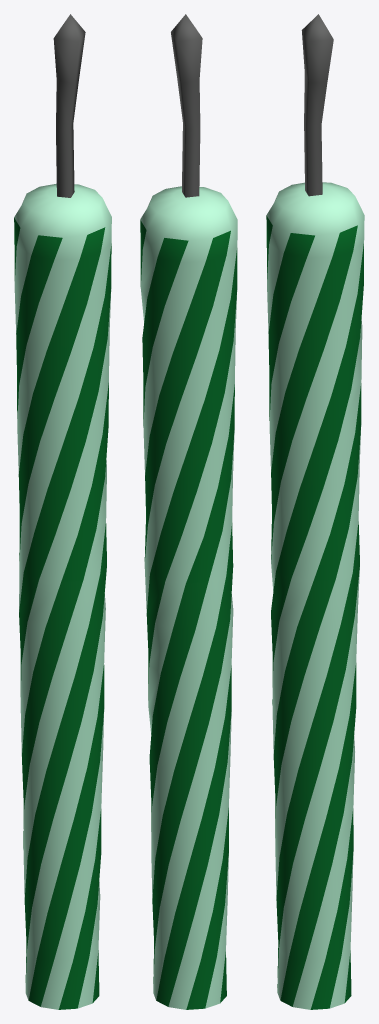
File: birthday_candle_009.glb
3 views of the same model, side by side, from view 1: azimuth 30°, elevation 25°; view 2: azimuth 150°, elevation 25°; view 3: azimuth 330°, elevation 25° (orthographic).
Visible parts, largest first — view 1: birthday_candle_009; view 2: birthday_candle_009; view 3: birthday_candle_009.
Part boxes in pixels (x1,y1,x2,y2): birthday_candle_009: (14, 14, 111, 1009); birthday_candle_009: (140, 14, 237, 1009); birthday_candle_009: (266, 14, 364, 1009).
Size of the model in its own units: 0.9066 by 10.02 by 0.9065.
1 material, 1 textured.
